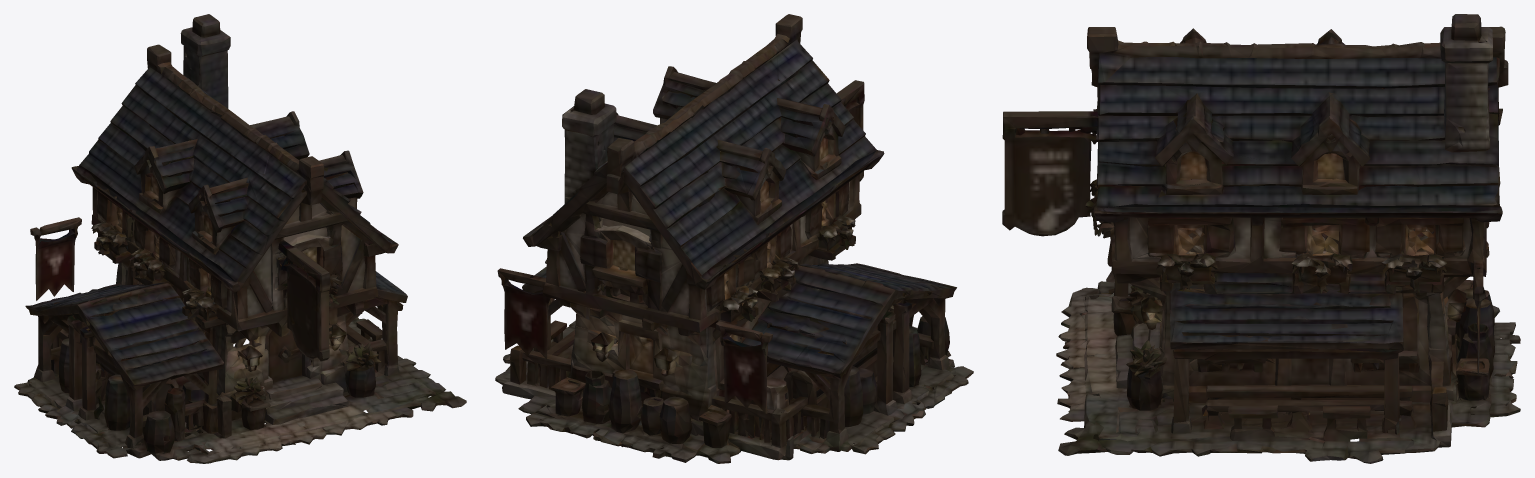
The model's file is war_tavern_01.glb.
The picture shows the model from 3 angles, left to right: view 1: azimuth 30°, elevation 25°; view 2: azimuth 150°, elevation 25°; view 3: azimuth 270°, elevation 25°; orthographic projection. The views are drawn at different scales.
Visible parts, largest first — view 1: geometry_0; view 2: geometry_0; view 3: geometry_0.
Part boxes in pixels (box(x1,y1,x2,y2)): geometry_0: box(14, 14, 466, 463); geometry_0: box(495, 14, 973, 463); geometry_0: box(1002, 14, 1520, 463).
Bounding box in the file's own units: 0.9711 × 0.8065 × 0.9996.
1 material, 1 textured.
